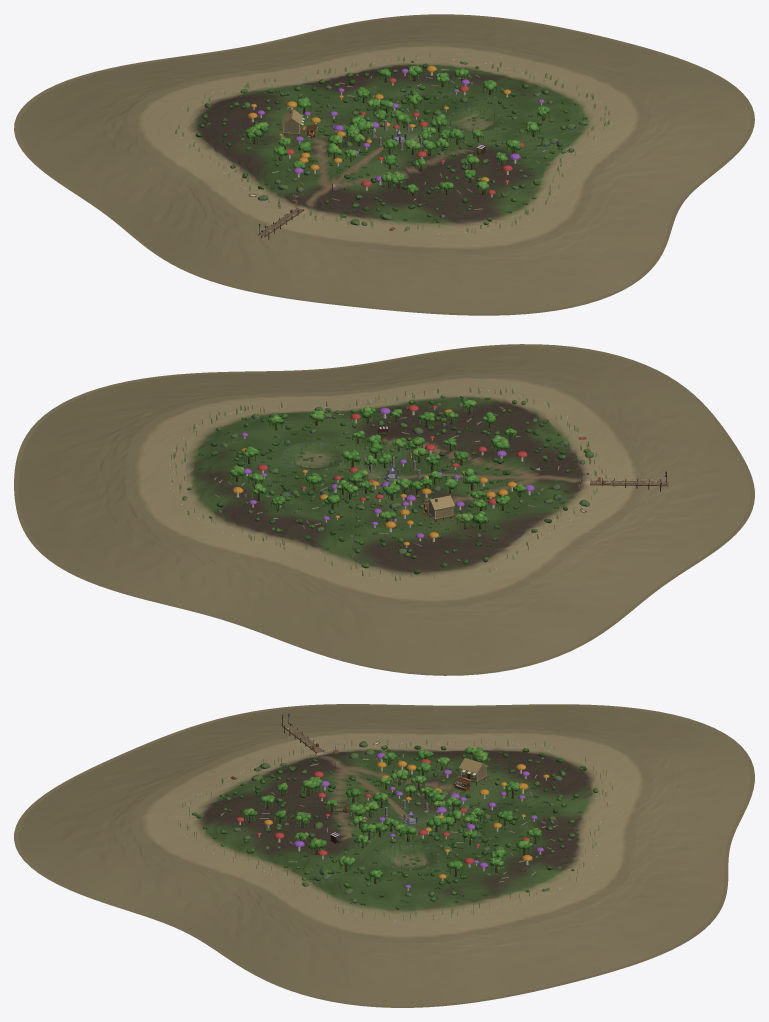
File: moss.glb
3 views of the same model, one above another, from view 1: azimuth 30°, elevation 25°; view 2: azimuth 150°, elevation 25°; view 3: azimuth 270°, elevation 25° (orthographic). The views are drawn at different scales.
Visible parts, largest first — view 1: moss_6_-4, moss_7_-4, moss_6_-5, moss_7_-3, moss_8_-4, moss_7_-5, moss_6_-3, moss_8_-5, moss_6_-6, moss_5_-5, moss_5_-4, moss_7_-6 (+3 smaller); view 2: moss_6_-5, moss_7_-5, moss_6_-4, moss_7_-4, moss_8_-5, moss_8_-4, moss_7_-3, moss_6_-6, moss_6_-3, moss_7_-6, moss_5_-5, moss_5_-4 (+3 smaller); view 3: moss_8_-4, moss_7_-4, moss_7_-5, moss_8_-5, moss_7_-3, moss_6_-5, moss_6_-4, moss_6_-3, moss_6_-6, moss_7_-6, moss_5_-5, moss_5_-4 (+4 smaller).
Part boxes in pixels (x1,y1,x2,y2): moss_6_-4: [165, 132, 445, 278]; moss_7_-4: [341, 95, 629, 217]; moss_6_-5: [59, 72, 343, 197]; moss_7_-3: [444, 183, 671, 312]; moss_8_-4: [522, 71, 754, 184]; moss_7_-5: [232, 32, 520, 139]; moss_6_-3: [259, 219, 540, 315]; moss_8_-5: [420, 18, 704, 95]; moss_6_-6: [21, 55, 236, 122]; moss_5_-5: [15, 121, 159, 218]; moss_5_-4: [111, 195, 265, 290]; moss_7_-6: [185, 17, 420, 71]; moss_6_-5: [319, 489, 616, 643]; moss_7_-5: [121, 446, 426, 589]; moss_6_-4: [426, 418, 724, 556]; moss_7_-4: [232, 383, 534, 497]; moss_8_-5: [14, 429, 234, 548]; moss_8_-4: [36, 371, 341, 451]; moss_7_-3: [342, 344, 645, 419]; moss_6_-6: [268, 588, 502, 675]; moss_6_-3: [538, 365, 749, 486]; moss_7_-6: [88, 545, 316, 638]; moss_5_-5: [497, 559, 669, 661]; moss_5_-4: [614, 483, 754, 581]; moss_8_-4: [221, 884, 444, 1005]; moss_7_-4: [218, 785, 440, 902]; moss_7_-5: [434, 783, 657, 902]; moss_8_-5: [432, 886, 660, 1003]; moss_7_-3: [14, 800, 228, 914]; moss_6_-5: [433, 719, 656, 805]; moss_6_-4: [216, 713, 444, 800]; moss_6_-3: [20, 726, 230, 819]; moss_6_-6: [644, 725, 754, 822]; moss_7_-6: [648, 804, 742, 912]; moss_5_-5: [433, 704, 657, 727]; moss_5_-4: [215, 704, 444, 726].
Size of the model in its own units: 268 by 18.44 by 276.
